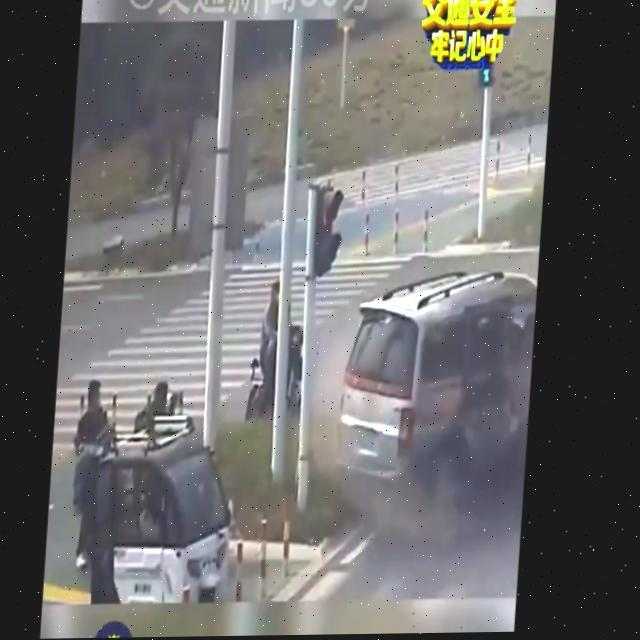multiple_accident: (317, 195, 572, 553)
single accident: (417, 0, 521, 63)
